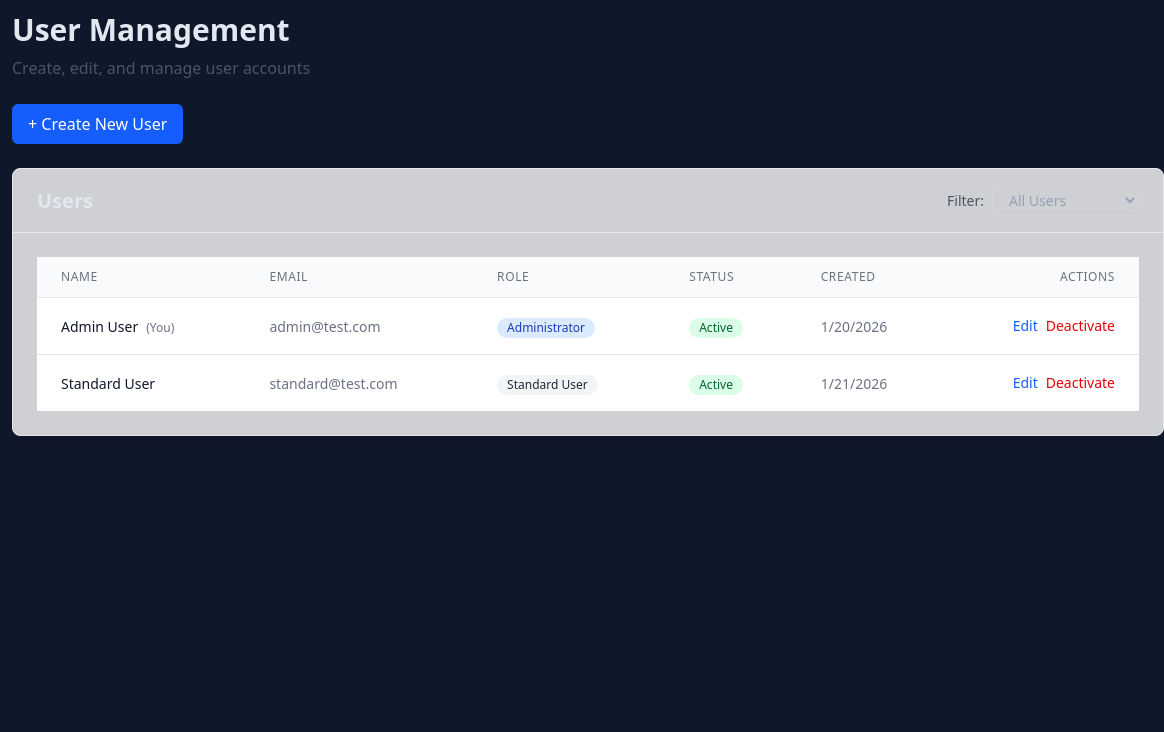
UserManagement › shows create user form when button is clicked
Click the button "+ Create New User" at (98, 124), box [12, 104, 183, 144]
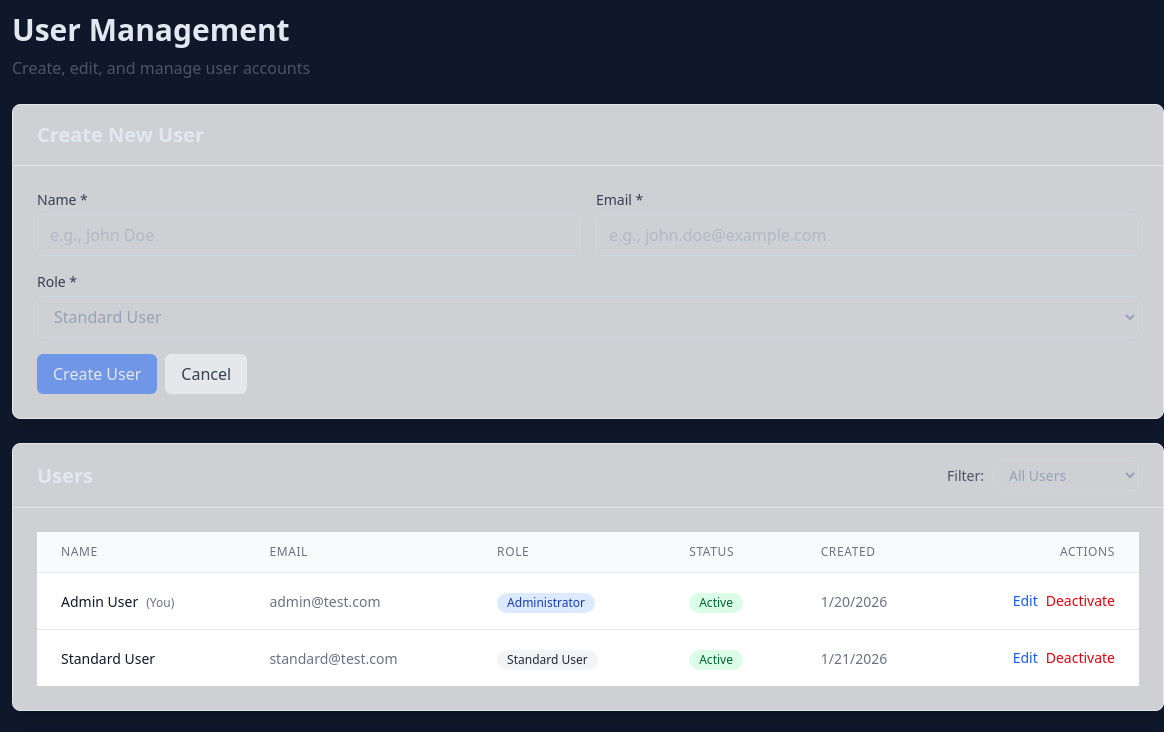
Expected: the field labelled "Name *" is shown, [37, 214, 580, 256]
Expected: the field labelled "Email *" is shown, [596, 214, 1139, 256]
Expected: the dropdown labelled "Role *" is shown, [37, 296, 1139, 338]
